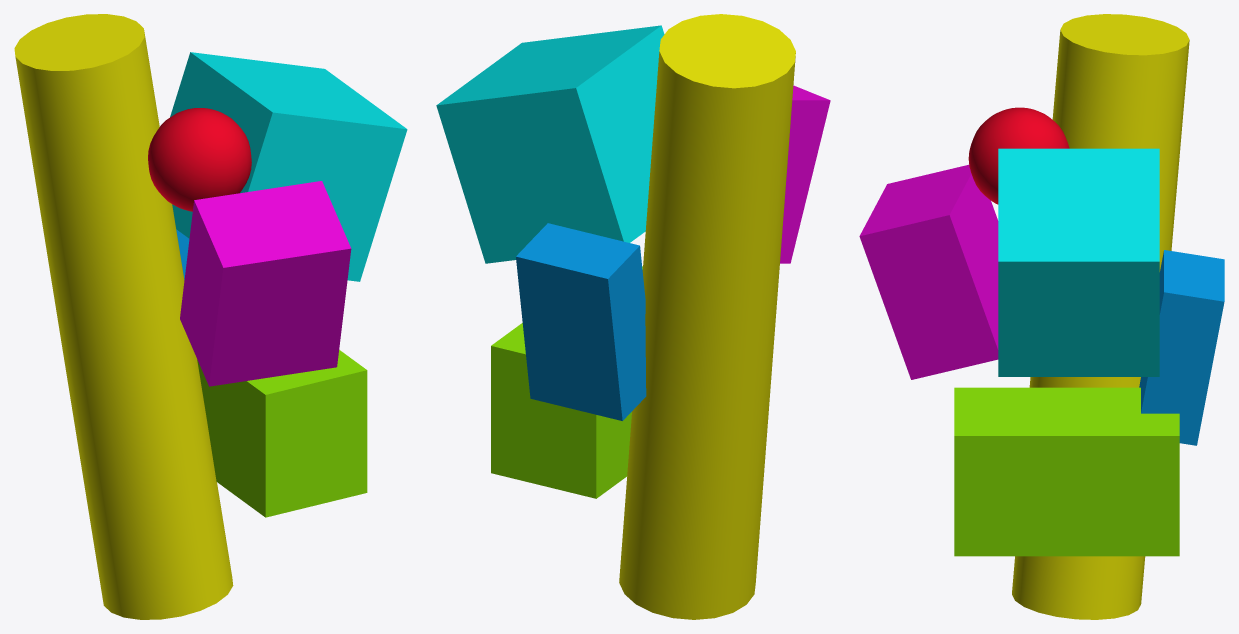
The model's file is プレゼント詰め合せ(プレゼント).fbx.
The picture shows the model from 3 angles, left to right: view 1: azimuth 30°, elevation 25°; view 2: azimuth 150°, elevation 25°; view 3: azimuth 270°, elevation 25°; orthographic projection. The views are drawn at different scales.
Parts seen in each view (by area): view 1: polySurface2; view 2: polySurface2; view 3: polySurface2.
Boxes of the visible parts, box(x1,y1,x2,y2) form: polySurface2: box(14, 14, 407, 619); polySurface2: box(436, 14, 830, 619); polySurface2: box(859, 14, 1224, 619).
Bounding box in the file's own units: 2.24 × 3.77 × 2.26.
